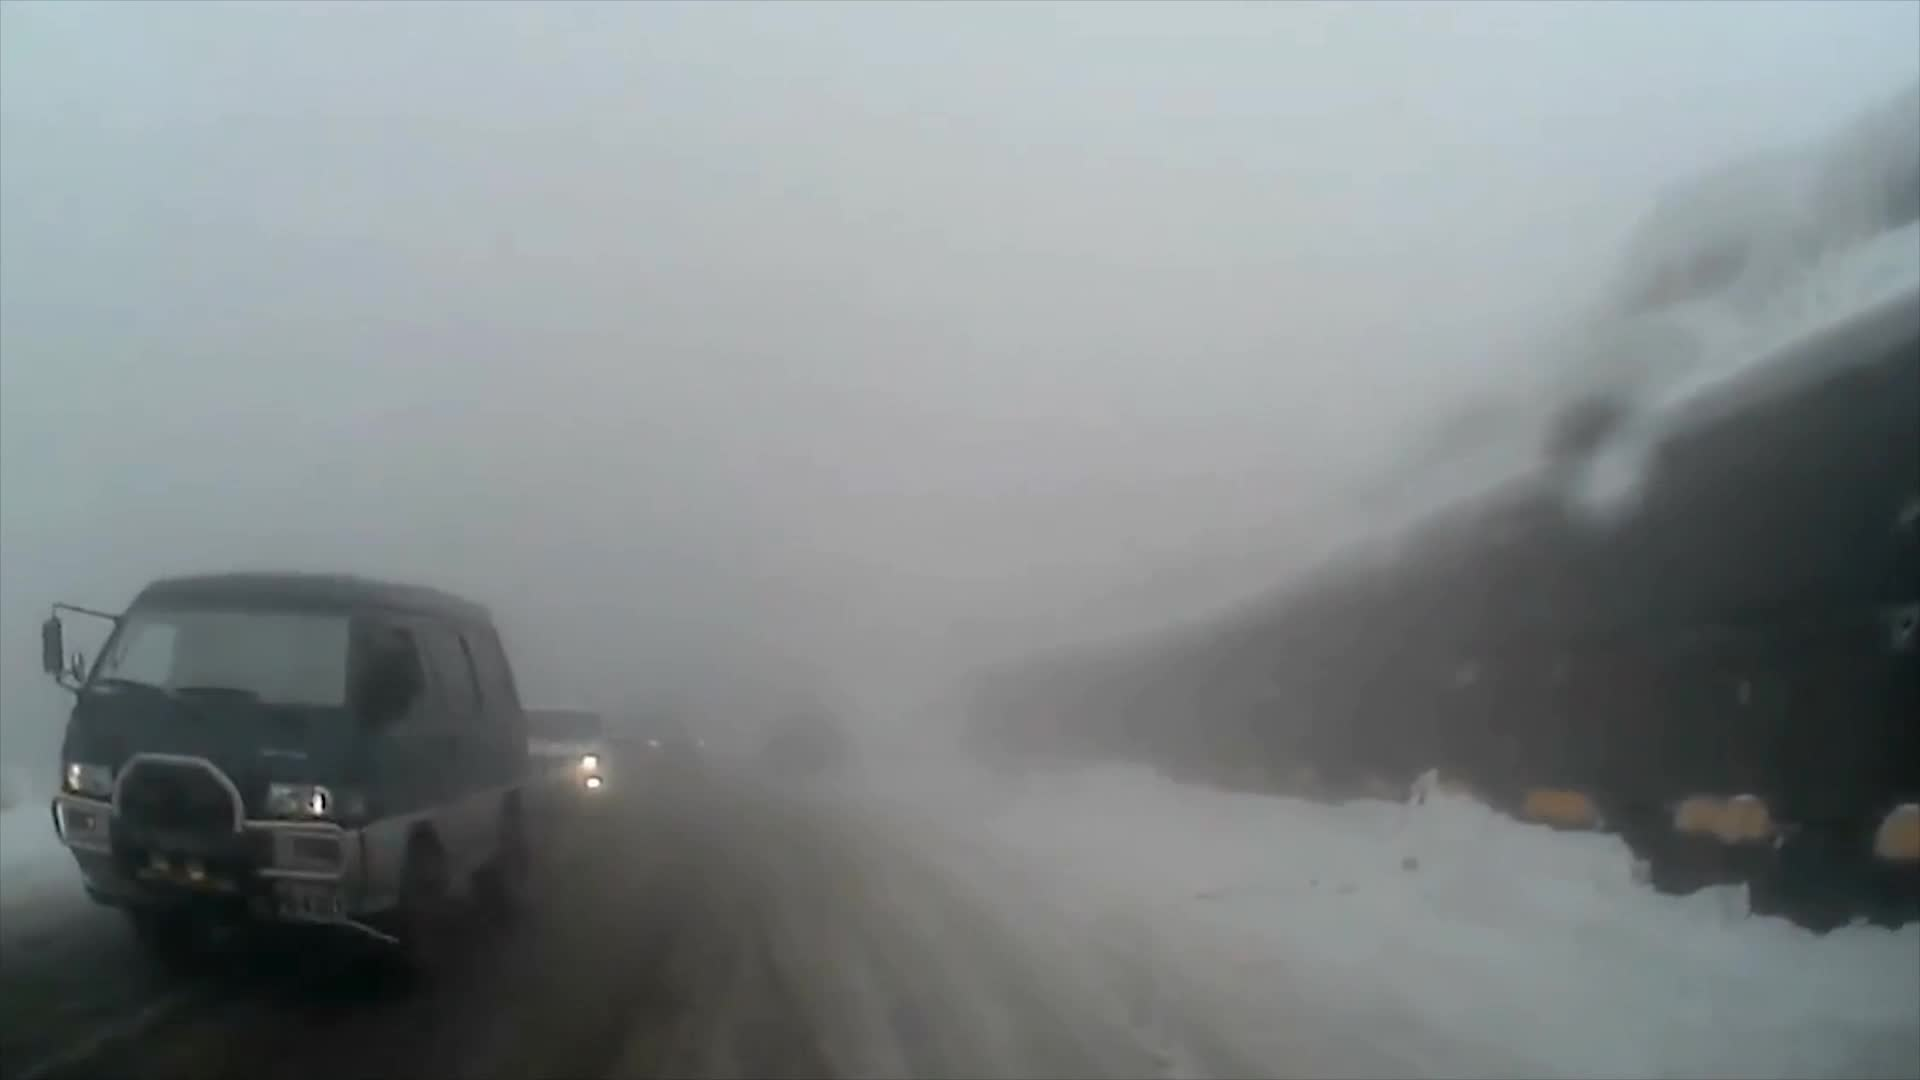vehicle: (36, 567, 533, 1002), (485, 702, 618, 818)
